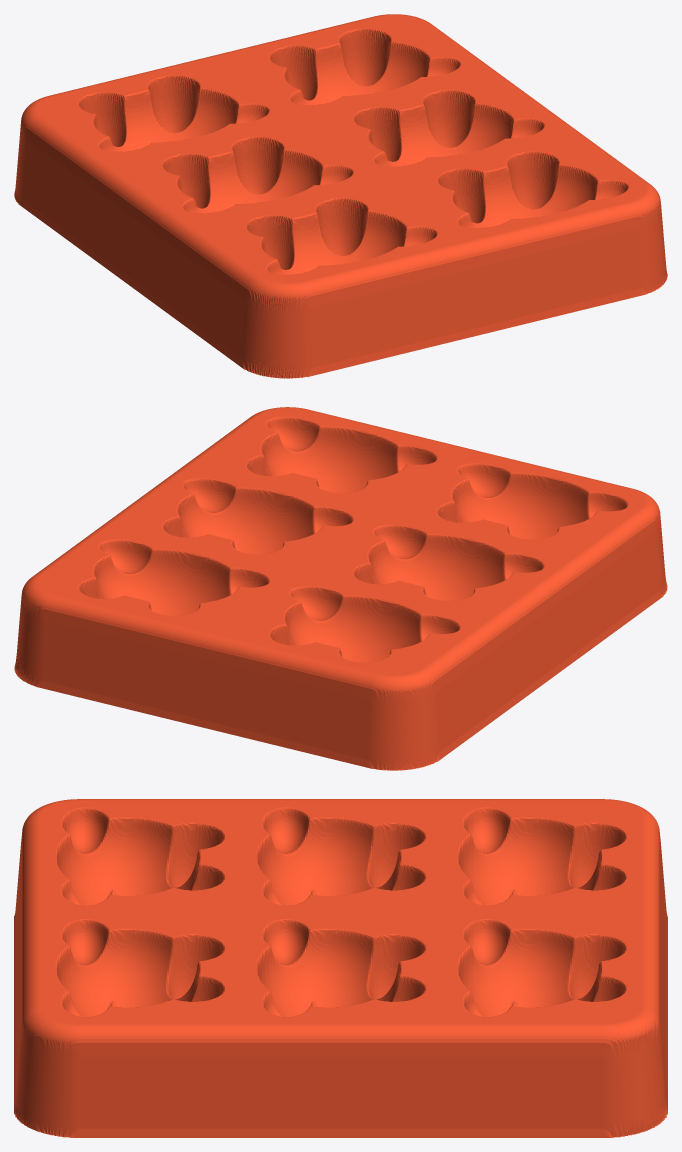
The model's file is mold.glb.
3 views of the same model, one above another, from view 1: azimuth 30°, elevation 25°; view 2: azimuth 150°, elevation 25°; view 3: azimuth 270°, elevation 25° (orthographic). The views are drawn at different scales.
Parts seen in each view (by area): view 1: geometry_0; view 2: geometry_0; view 3: geometry_0.
Boxes of the visible parts, left/top/right/bottom form: geometry_0: left=14, top=14, right=667, bottom=378; geometry_0: left=14, top=407, right=667, bottom=770; geometry_0: left=14, top=799, right=667, bottom=1137.
Size of the model in its own units: 0.0808 by 0.0159 by 0.0912.
